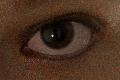eye: (41, 20, 75, 49)
